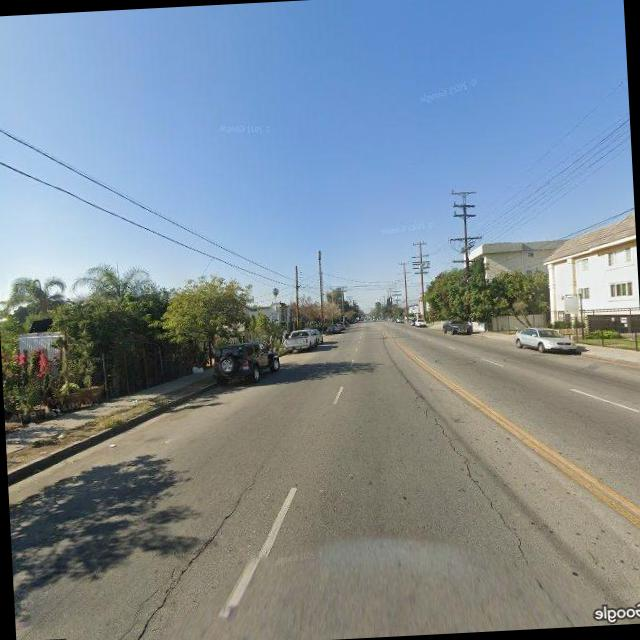pothole: (389, 344, 578, 625), (119, 450, 272, 640)
